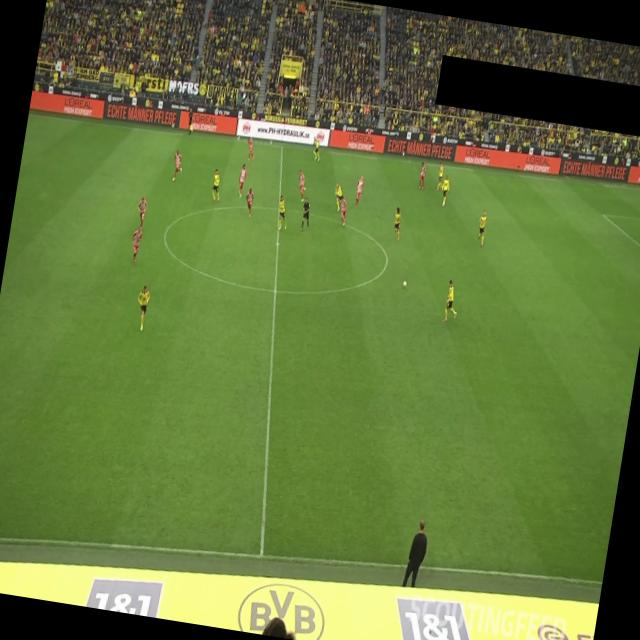ball: (402, 280, 407, 288)
player: (442, 278, 463, 324), (132, 284, 152, 332), (275, 194, 292, 232), (129, 225, 144, 265), (476, 209, 490, 248), (294, 168, 309, 204), (210, 168, 224, 204), (391, 206, 405, 242), (170, 148, 184, 182), (237, 162, 250, 198), (134, 196, 148, 229), (354, 174, 366, 208), (336, 196, 349, 227), (242, 187, 255, 218), (440, 174, 452, 207), (332, 182, 345, 212), (310, 136, 324, 162), (245, 136, 258, 162), (436, 162, 446, 192), (418, 161, 428, 191)
referee: (300, 196, 314, 231), (184, 106, 197, 136)
